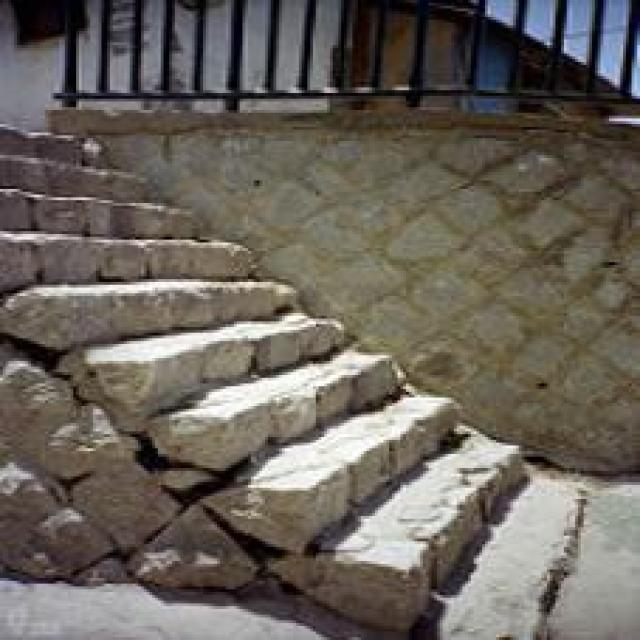upstair: (283, 283, 573, 585)
